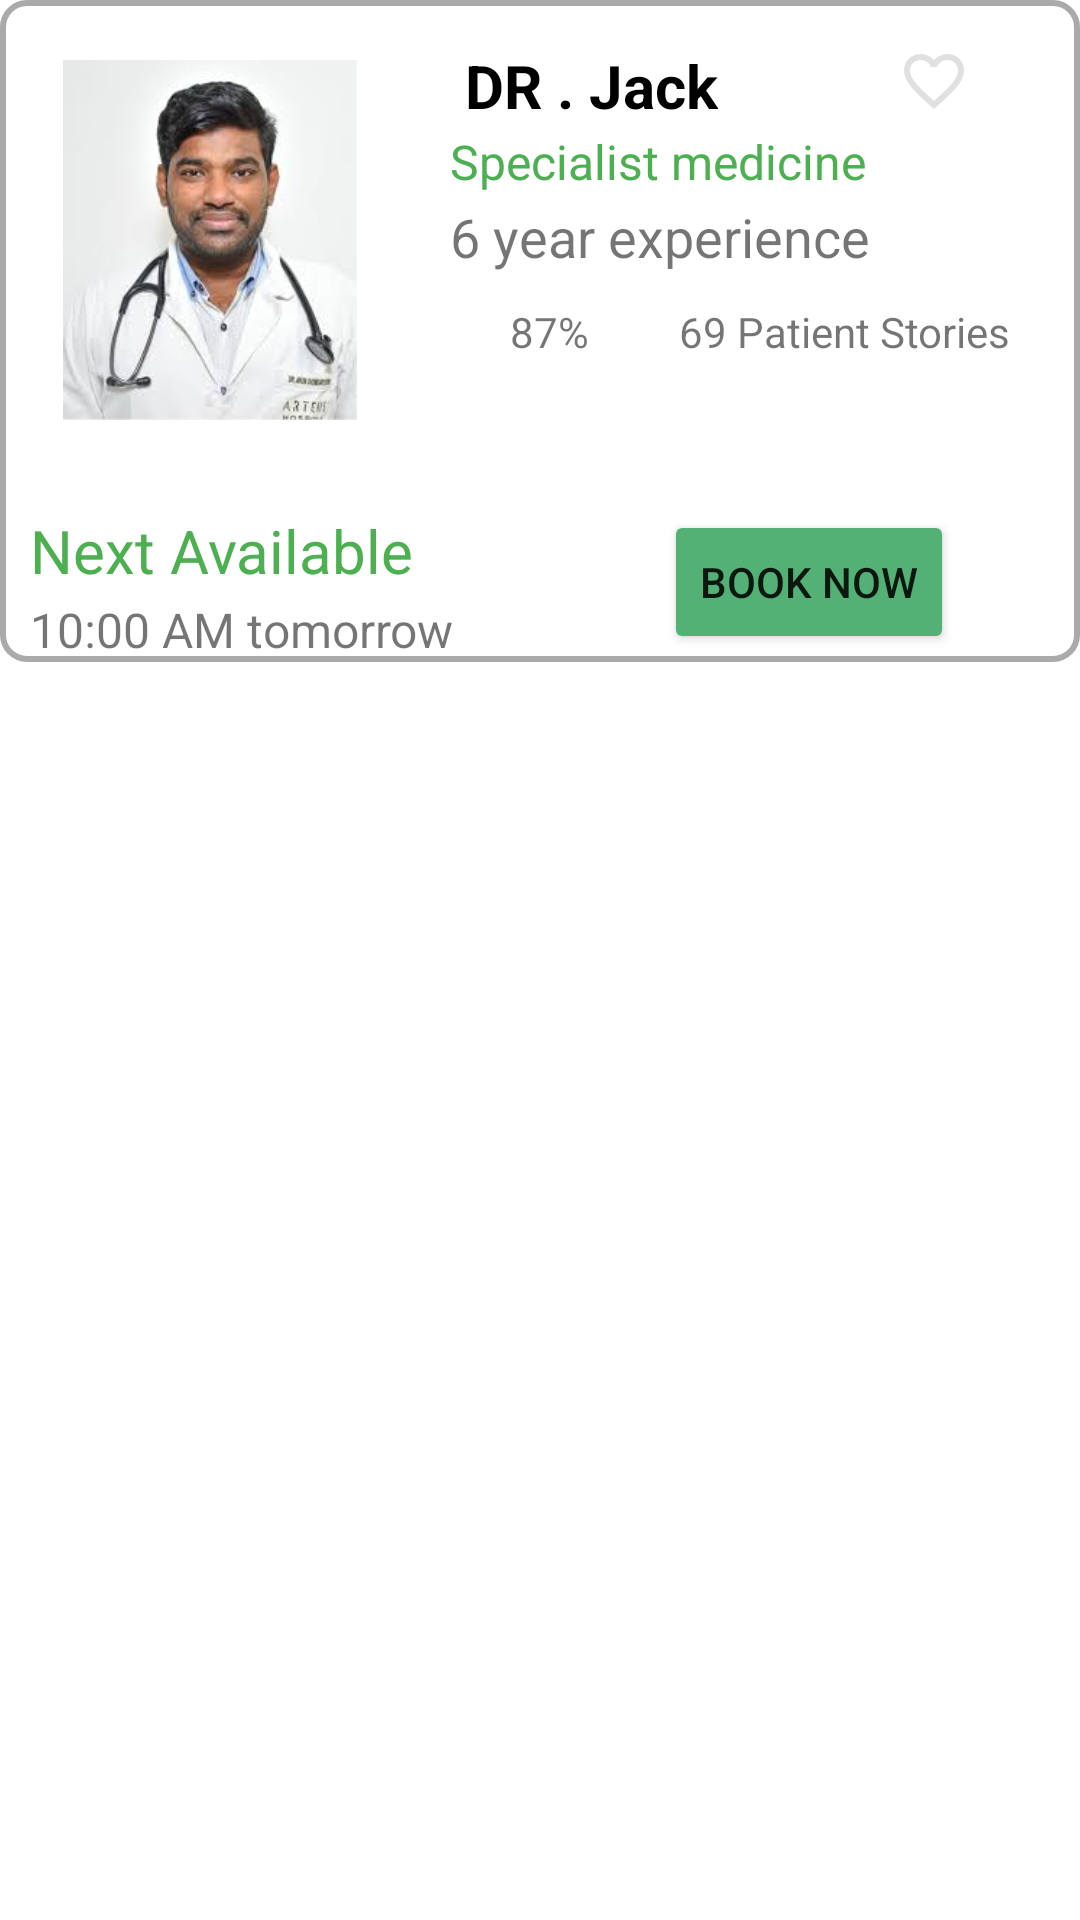

Screen size 1080 x 1920. Icon name, then its box in pixels as detection(x1, y1, x2, y2):
favorite border: detection(904, 54, 964, 108)
